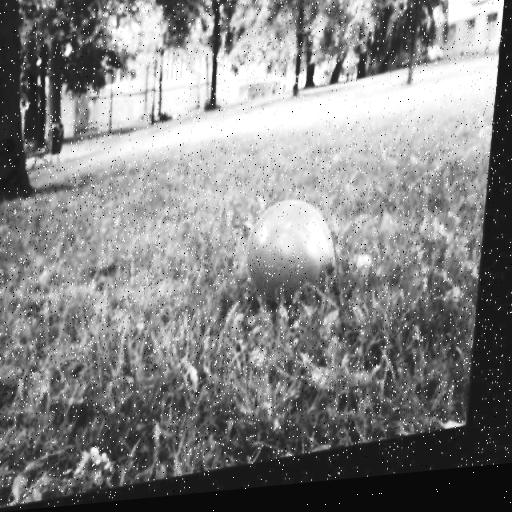balloon: (246, 194, 347, 316)
